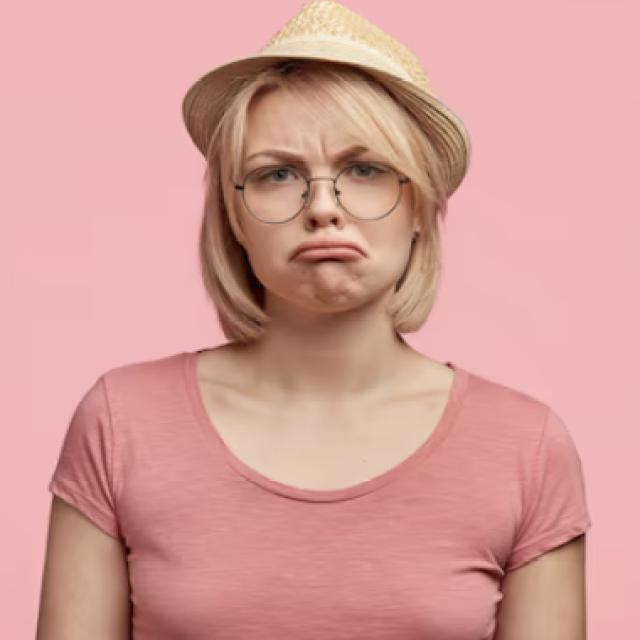sad: (231, 121, 420, 288)
